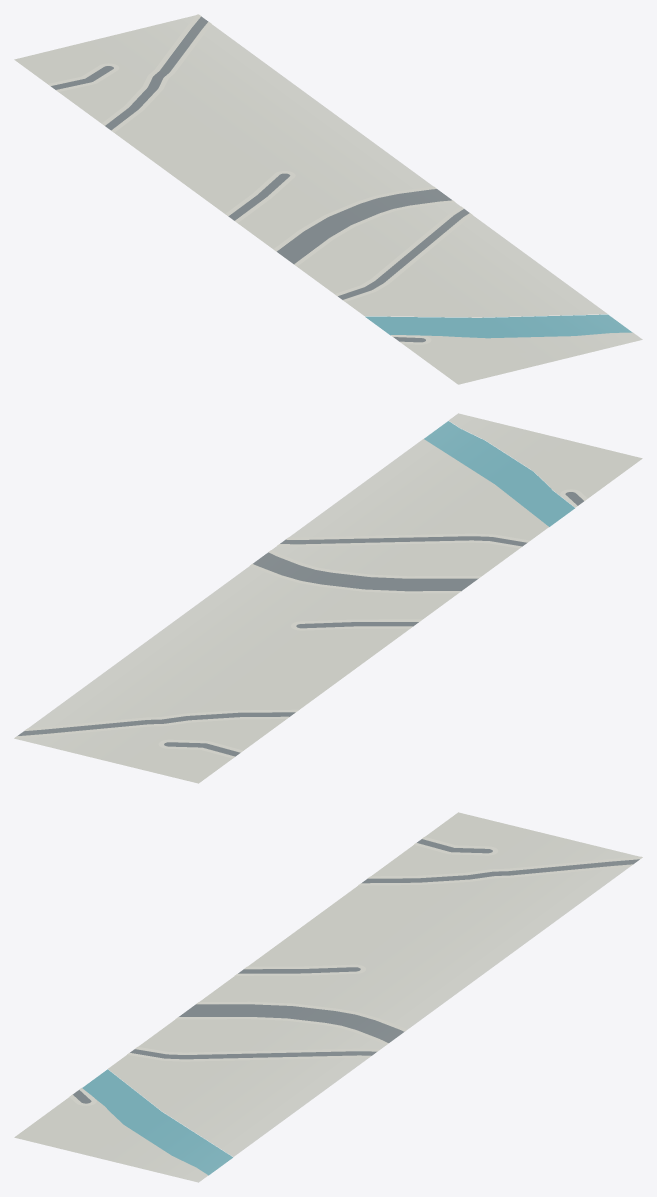
The picture shows the model from 3 angles, top to bottom: view 1: azimuth 30°, elevation 25°; view 2: azimuth 150°, elevation 25°; view 3: azimuth 330°, elevation 25°; orthographic projection.
Parts seen in each view (by area): view 1: city; view 2: city; view 3: city.
Boxes of the visible parts, x1,y1,x2,y2 form: city: [14, 14, 642, 384]; city: [14, 413, 642, 783]; city: [14, 812, 642, 1182].
Bounding box in the file's own units: 120 × 0.4 × 500.
